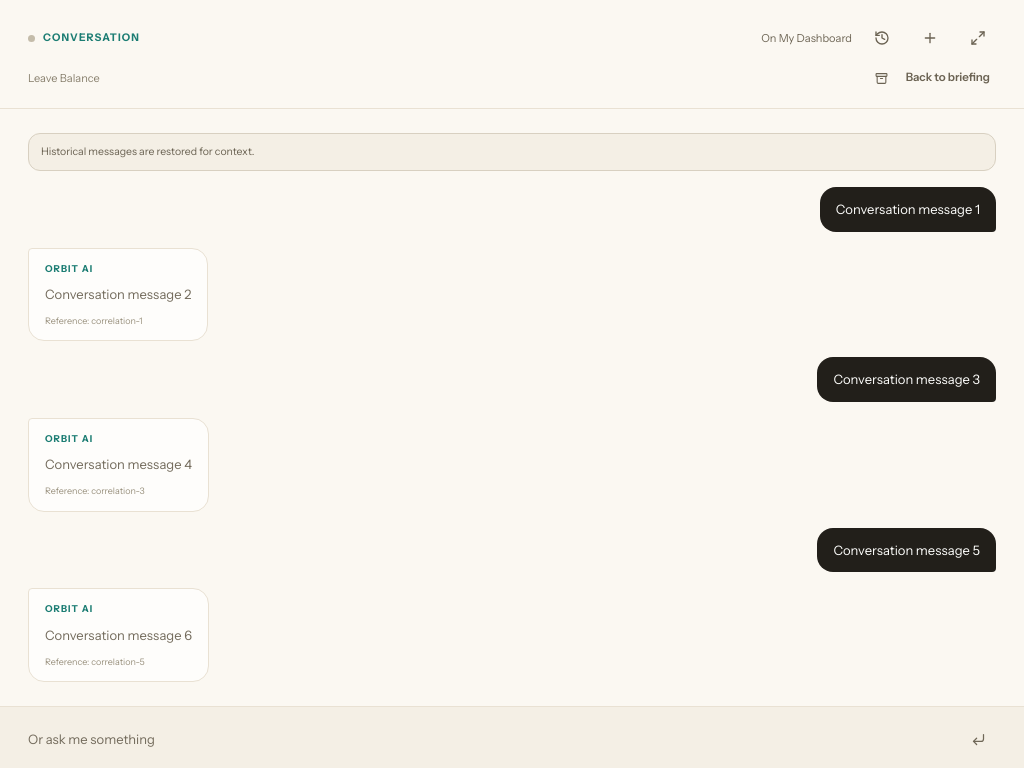
Test: OrbitAIBriefing panel layout and scrolling › maximizing and restoring leaves the conversation intact
This screenshot has width=1024, height=768.
expect the text "Conversation message 6" is shown: met, box [45,624,192,646]
Click the button named "Maximize Orbit AI": click(978, 38) [960,20,996,56]
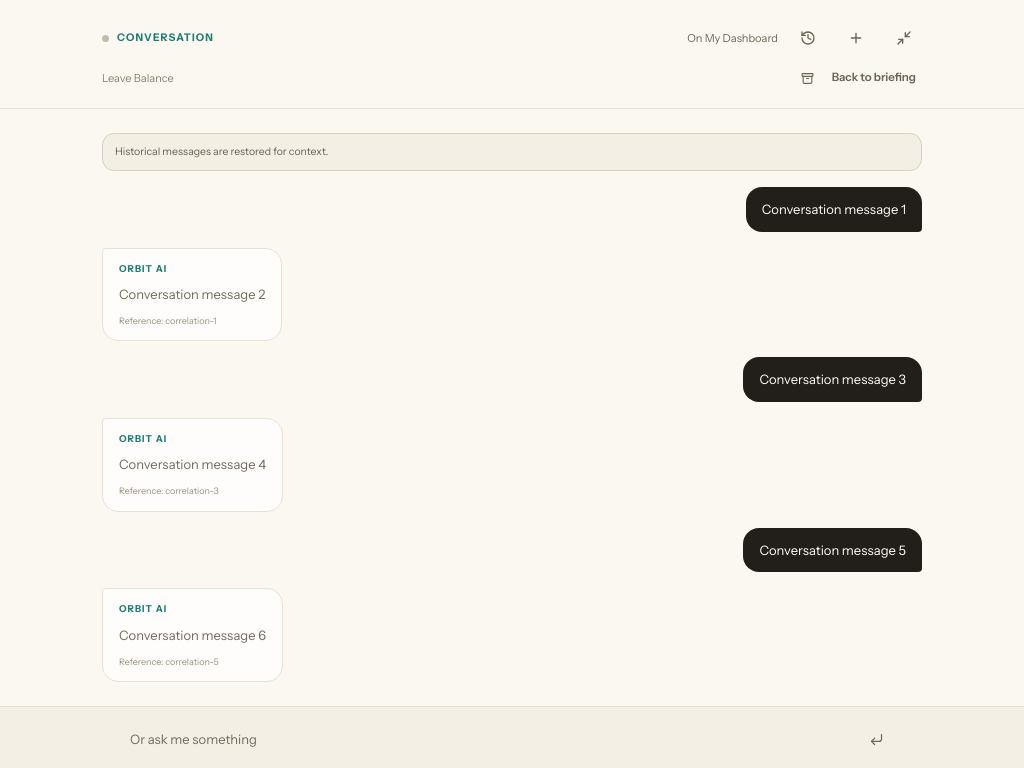
expect the text "Conversation message 6" is shown: met, box [119,624,266,646]
expect the button named "Restore compact Orbit AI view" is shown: met
Click the button named "Restore compact Orbit AI view": click(904, 38) [886,20,922,56]
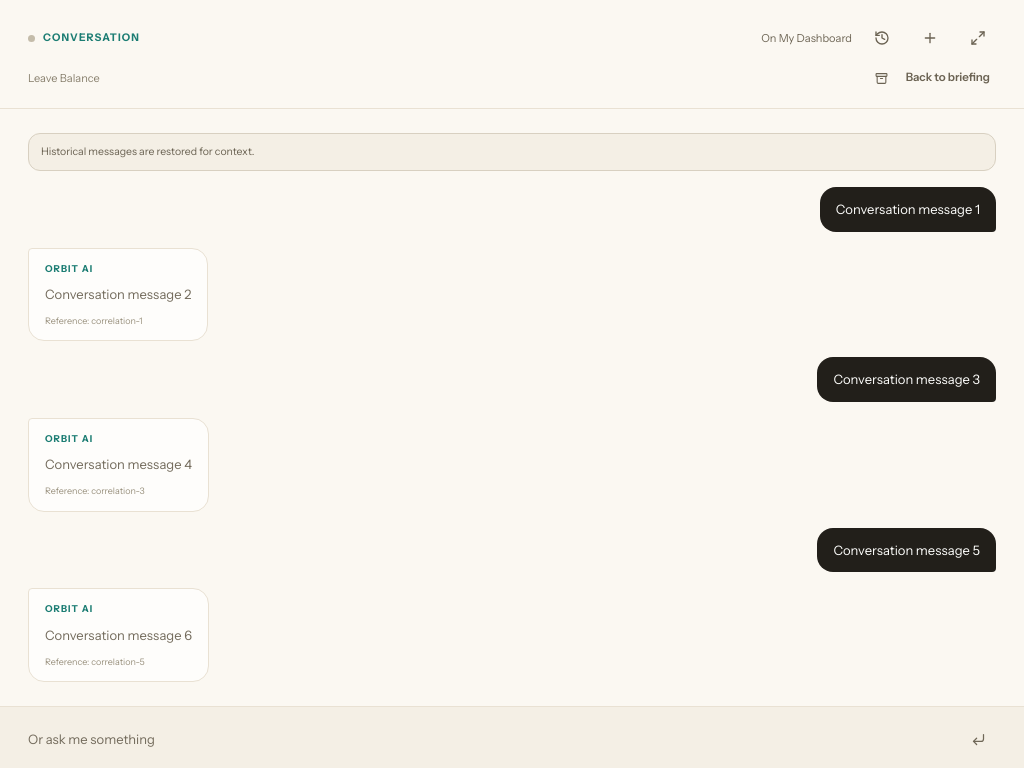
expect the text "Conversation message 6" is shown: met, box [45,624,192,646]
expect the button named "Maximize Orbit AI" is shown: met, box [960,20,996,56]
